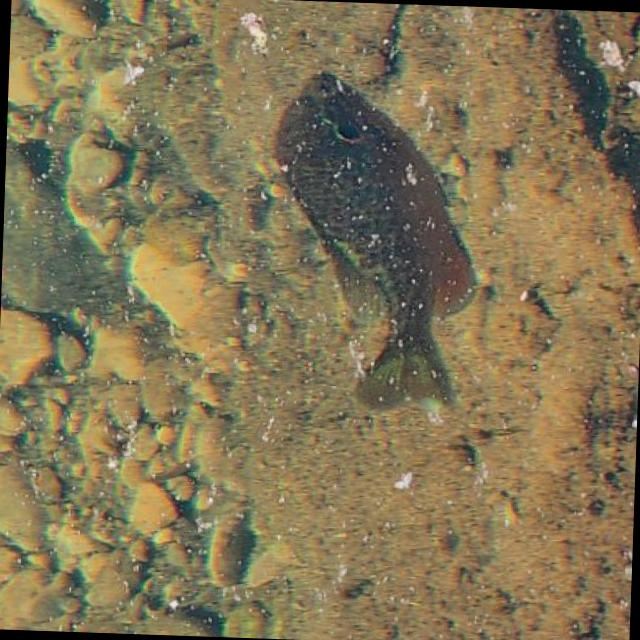Gunes Levregi: (259, 65, 493, 418)
